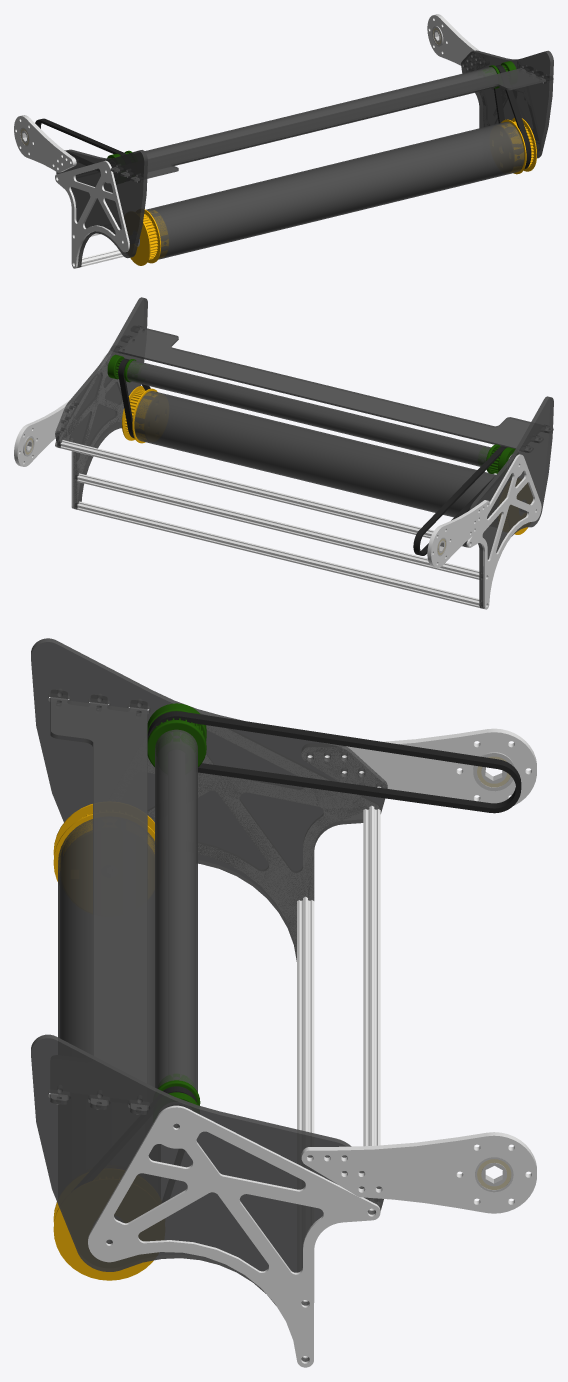
The picture shows the model from 3 angles, top to bottom: view 1: azimuth 30°, elevation 25°; view 2: azimuth 150°, elevation 25°; view 3: azimuth 270°, elevation 25°; orthographic projection. The views are drawn at different scales.
Visible parts, largest first — view 1: 02-PC-BigRoller, 02-PC-MainIntake (×2), 02-PC-TopPlate, 02-PC-SmallRoller, 02-ALU-MainSupport (×2), 02-ALU-GearboxOutput (×2), HTD5 45 Tooth Custom Pulley (×2), 75 Tooth x 9mm HTD5 Belt, 120 Tooth x 9mm HTD5 Belt, Churro (27 in); view 2: 02-PC-BigRoller, Churro (27 in) (×3), 02-PC-MainIntake (×2), 02-PC-TopPlate, 02-PC-SmallRoller, 02-ALU-MainSupport (×2), 02-ALU-GearboxOutput (×2), 120 Tooth x 9mm HTD5 Belt, HTD5 45 Tooth Custom Pulley, 75 Tooth x 9mm HTD5 Belt, RollerInsert, 02-PET-RollerInsert; view 3: 02-PC-MainIntake (×2), 02-ALU-MainSupport (×2), 02-PC-TopPlate, 02-ALU-GearboxOutput (×2), 02-PC-SmallRoller, Churro (27 in) (×2), 02-PC-BigRoller, 120 Tooth x 9mm HTD5 Belt, HTD5 45 Tooth Custom Pulley (×2), 02-PET-RollerInsert, 1/2" Hex Bore Bearing (1.125" OD, 0.313" WD, Shielded, Flang (×2).
Boxes of the visible parts, <box> form: 02-PC-BigRoller: <box>146,121,524,259</box>; 02-PC-MainIntake (×2): <box>56,50,553,267</box>; 02-PC-TopPlate: <box>110,68,553,181</box>; 02-PC-SmallRoller: <box>144,66,496,165</box>; 02-ALU-MainSupport (×2): <box>55,61,539,268</box>; 02-ALU-GearboxOutput (×2): <box>14,14,485,172</box>; HTD5 45 Tooth Custom Pulley (×2): <box>130,118,536,265</box>; 75 Tooth x 9mm HTD5 Belt: <box>494,65,531,169</box>; 120 Tooth x 9mm HTD5 Belt: <box>35,118,125,155</box>; Churro (27 in): <box>79,249,123,267</box>; 02-PC-BigRoller: <box>134,391,495,517</box>; Churro (27 in) (×3): <box>60,440,481,608</box>; 02-PC-MainIntake (×2): <box>55,297,553,608</box>; 02-PC-TopPlate: <box>118,327,553,452</box>; 02-PC-SmallRoller: <box>127,360,490,466</box>; 02-ALU-MainSupport (×2): <box>55,354,541,609</box>; 02-ALU-GearboxOutput (×2): <box>14,400,489,567</box>; 120 Tooth x 9mm HTD5 Belt: <box>413,446,507,555</box>; HTD5 45 Tooth Custom Pulley: <box>122,386,157,443</box>; 75 Tooth x 9mm HTD5 Belt: <box>118,358,150,438</box>; RollerInsert: <box>107,354,142,382</box>; 02-PET-RollerInsert: <box>478,444,515,473</box>; 02-PC-MainIntake (×2): <box>31,638,387,1361</box>; 02-ALU-MainSupport (×2): <box>88,725,380,1367</box>; 02-PC-TopPlate: <box>50,692,147,1114</box>; 02-ALU-GearboxOutput (×2): <box>301,728,536,1213</box>; 02-PC-SmallRoller: <box>155,729,197,1092</box>; Churro (27 in) (×2): <box>297,805,380,1305</box>; 02-PC-BigRoller: <box>58,819,154,1106</box>; 120 Tooth x 9mm HTD5 Belt: <box>147,711,521,813</box>; HTD5 45 Tooth Custom Pulley (×2): <box>53,804,154,1280</box>; 02-PET-RollerInsert: <box>147,703,206,766</box>; 1/2" Hex Bore Bearing (1.125" OD, 0.313" WD, Shielded, Flang (×2): <box>473,752,514,1192</box>.
Size of the model in its own units: 0.7163 by 0.2678 by 0.3738.
